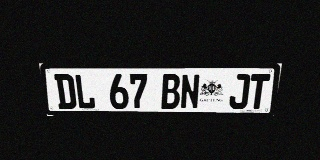6: (108, 74, 129, 109)
7: (128, 74, 148, 109)
B: (161, 74, 180, 109)
D: (54, 74, 77, 109)
J: (228, 74, 251, 109)
L: (74, 74, 96, 109)
N: (180, 74, 200, 109)
T: (247, 74, 270, 109)
